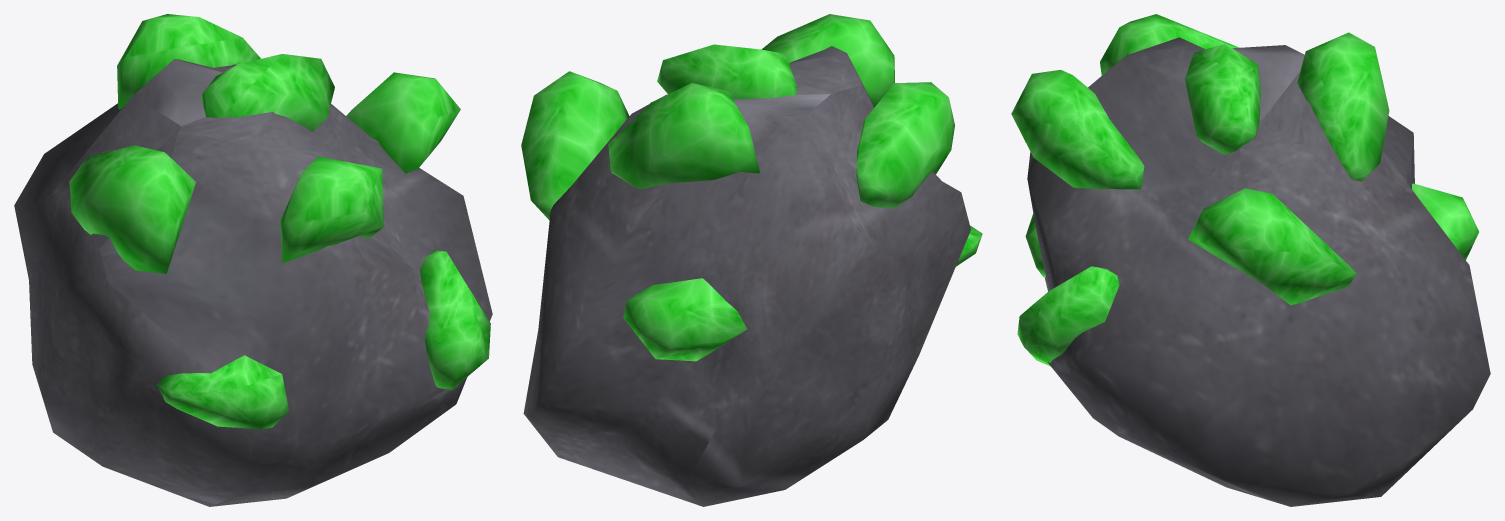
The model's file is earthstoneOreLP.fbx.
3 renders of one model, left to right at view 1: azimuth 30°, elevation 25°; view 2: azimuth 150°, elevation 25°; view 3: azimuth 270°, elevation 25°, orthographic. The views are drawn at different scales.
Visible parts, largest first — view 1: Ore.019, EarthstoneParticle.017; view 2: Ore.019, EarthstoneParticle.017; view 3: Ore.019, EarthstoneParticle.017.
Part boxes in pixels (x1,y1,x2,y2): Ore.019: (14,59,492,506); EarthstoneParticle.017: (69,14,490,429); Ore.019: (523,46,970,506); EarthstoneParticle.017: (521,14,982,361); Ore.019: (1027,37,1490,506); EarthstoneParticle.017: (1011,14,1478,366).
Bounding box in the file's own units: 320 × 344 × 351.
